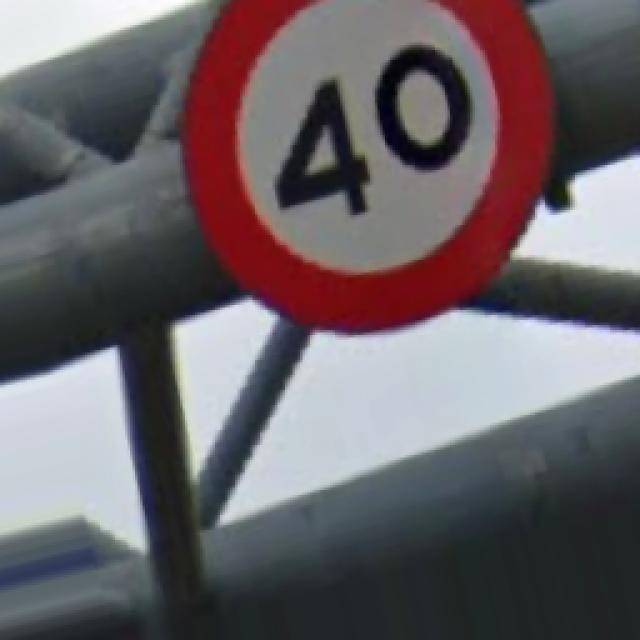Speed Limit -40-: (185, 0, 550, 328)
